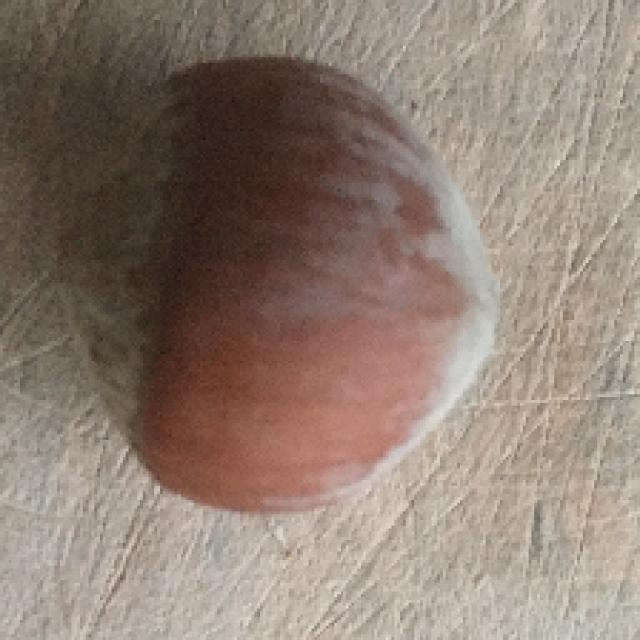QualityHazelnut: (46, 55, 505, 516)
